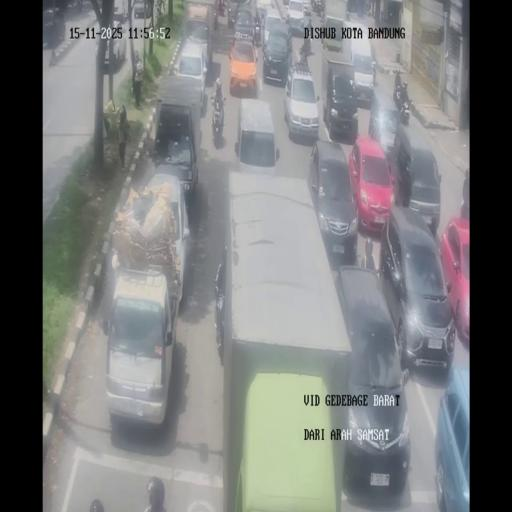3: (220, 178, 351, 510)
car: (380, 206, 455, 374), (104, 264, 178, 426), (139, 172, 193, 303), (308, 137, 358, 265), (390, 120, 442, 234), (434, 366, 469, 509), (236, 97, 276, 178), (283, 66, 319, 142), (322, 67, 358, 140), (368, 86, 400, 156), (175, 41, 208, 108), (349, 29, 375, 103), (261, 22, 292, 83), (228, 38, 258, 96), (97, 19, 127, 69), (215, 253, 226, 363), (322, 15, 348, 55), (42, 7, 65, 48), (232, 6, 257, 43), (286, 0, 306, 35), (112, 0, 126, 22), (133, 0, 146, 20)
truck: (211, 96, 225, 137), (399, 90, 410, 126), (300, 34, 311, 58), (393, 81, 402, 108), (213, 1, 221, 29), (253, 22, 262, 46), (303, 1, 313, 21), (314, 0, 324, 16), (372, 61, 377, 85), (228, 9, 234, 28), (345, 4, 351, 20), (368, 2, 374, 16), (77, 0, 83, 11)
